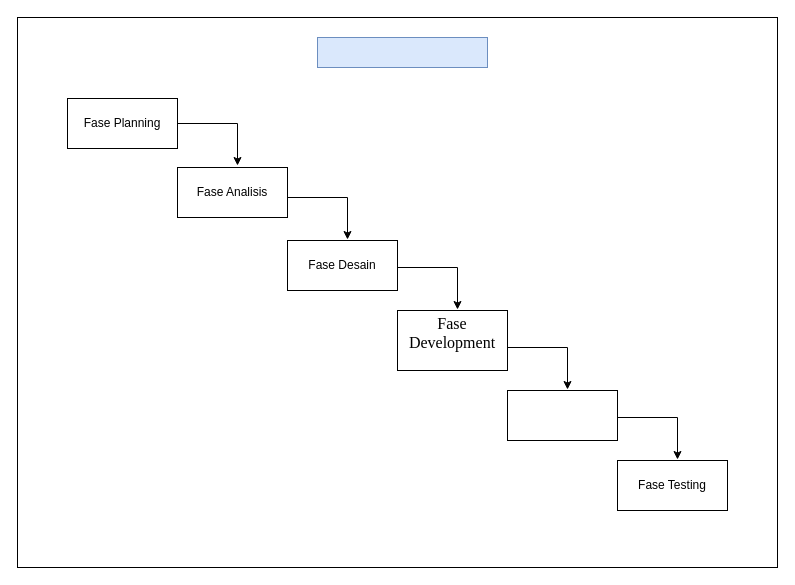
This 795x585 diagram has some shape labels left out. Here are the shapes that lost their labels. From the top down, the centre of each, then its label:
At [402,52]: "Tahapan SDLC".
At [562,415]: "Fase Implementasi".
